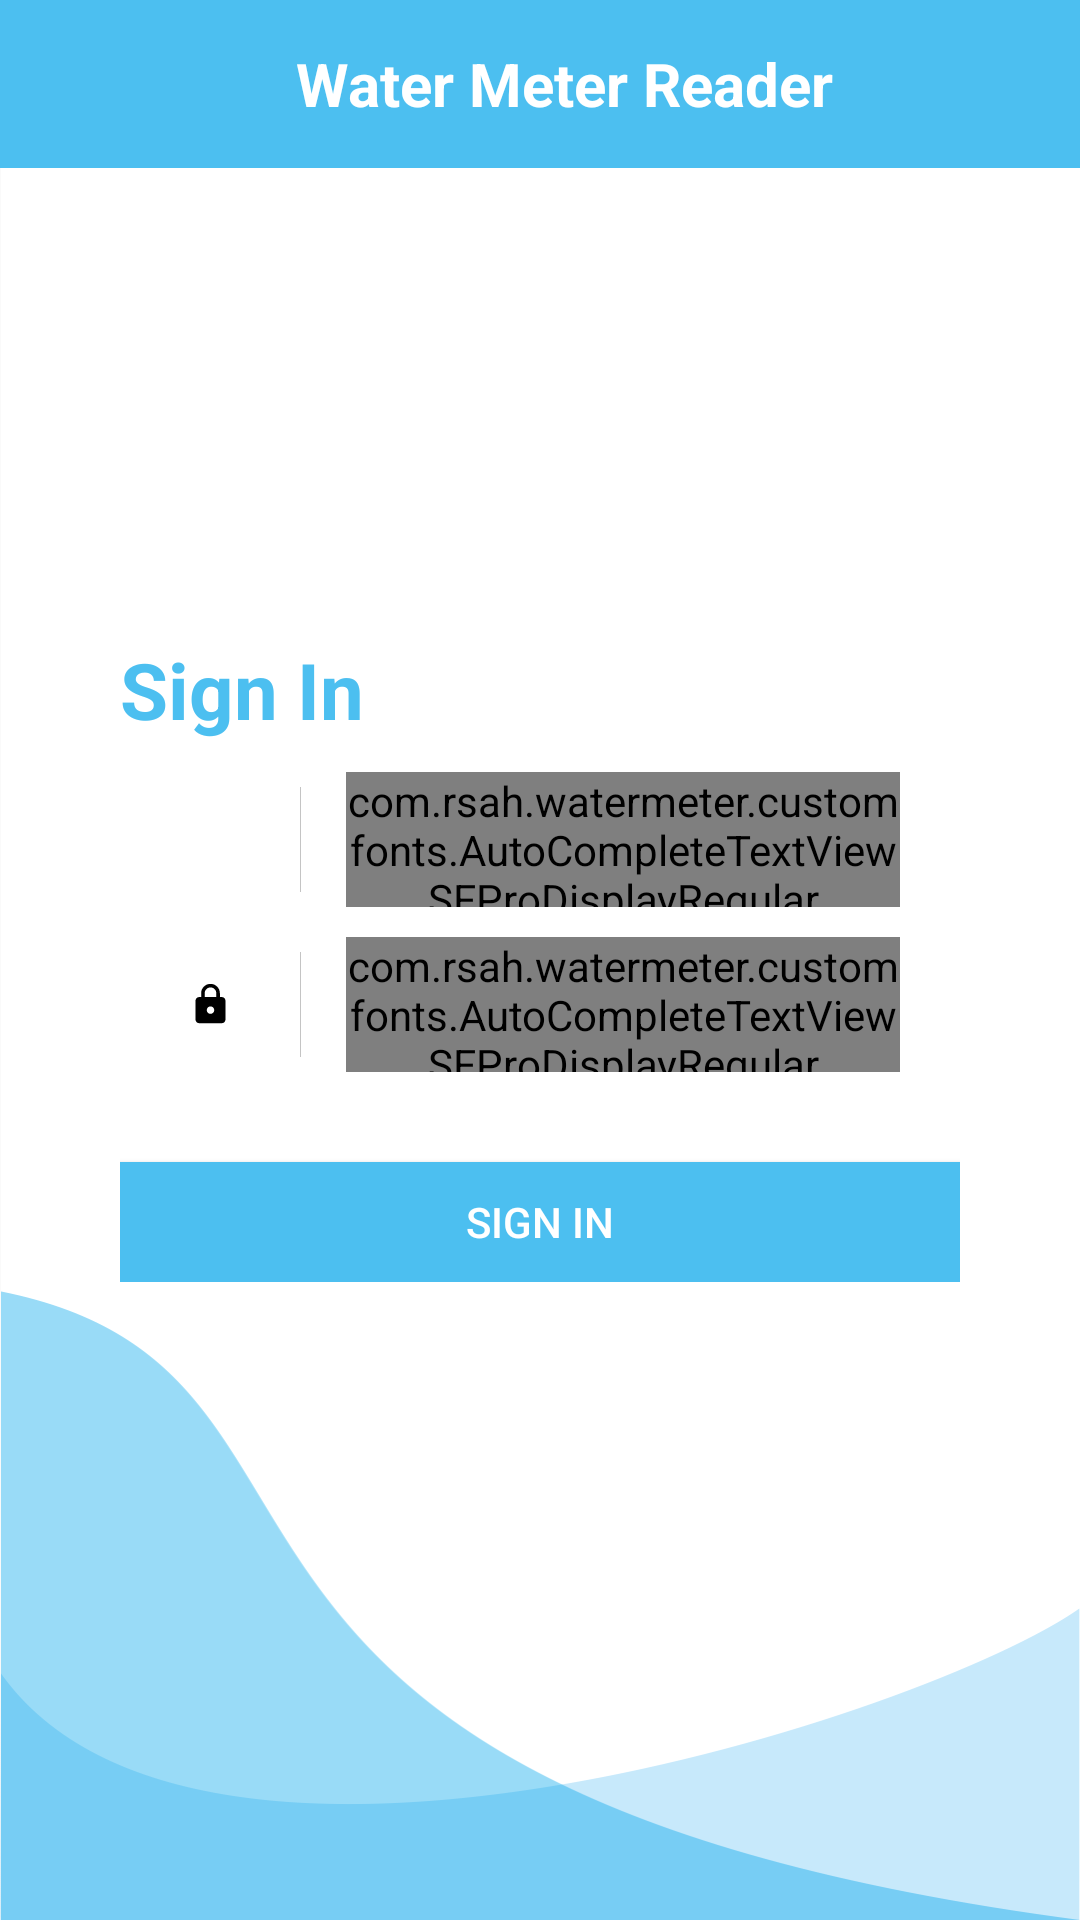

Icon bounding boxes for this 1080 x 1920 phone screenshot, format (x1, y1, x2, y2):
lock: (195, 984, 226, 1024)
